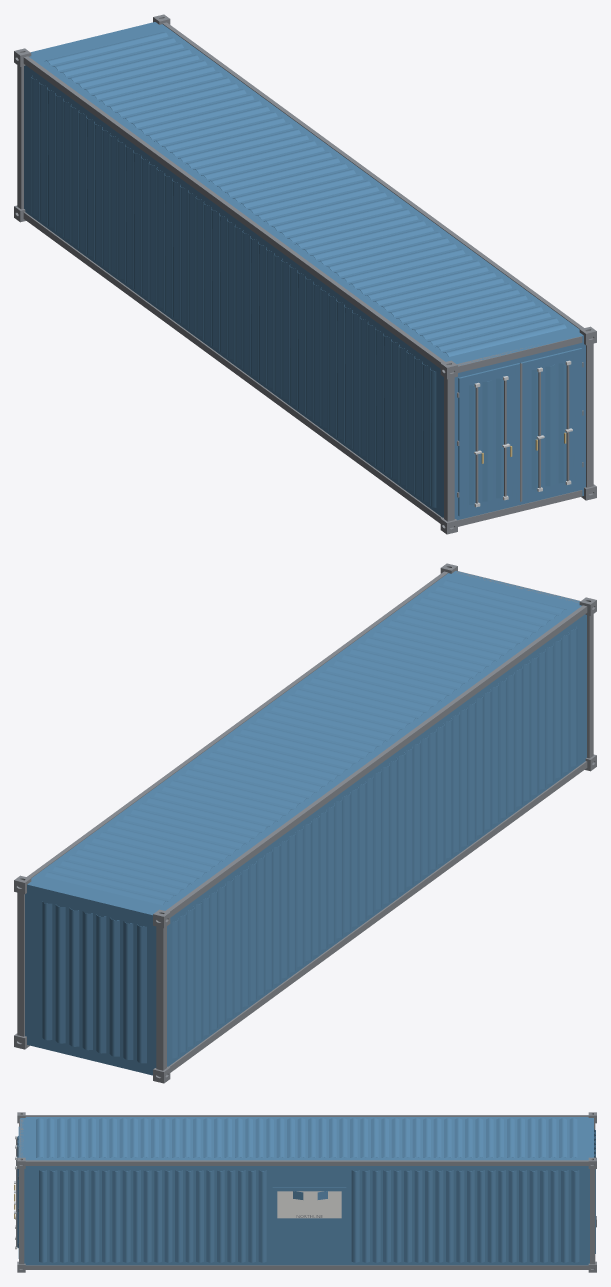
The model's file is Container_40.fbx.
3 renders of one model, top to bottom at view 1: azimuth 30°, elevation 25°; view 2: azimuth 150°, elevation 25°; view 3: azimuth 270°, elevation 25°, orthographic. The views are drawn at different scales.
Visible parts, largest first — view 1: LOD0; view 2: LOD0; view 3: LOD0.
Part boxes in pixels (left/top/right/bottom): LOD0: left=14, top=14, right=596, bottom=534; LOD0: left=14, top=563, right=596, bottom=1083; LOD0: left=14, top=1112, right=596, bottom=1272.
Size of what is drawn, in the model's own units: 245 by 259 by 1226.
